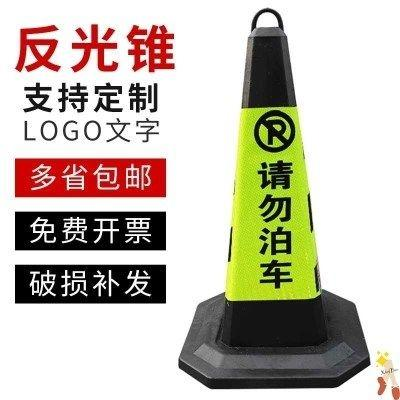cone_barrel: (203, 11, 342, 354)
